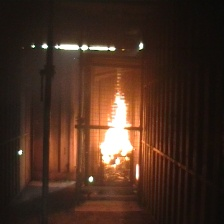fire: (95, 86, 137, 169)
